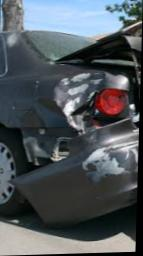Bumper: (11, 121, 140, 231)
Dickey: (51, 37, 141, 129)
Fender: (9, 60, 114, 137)
Light: (87, 89, 131, 120)
Windshield: (22, 32, 98, 62)
